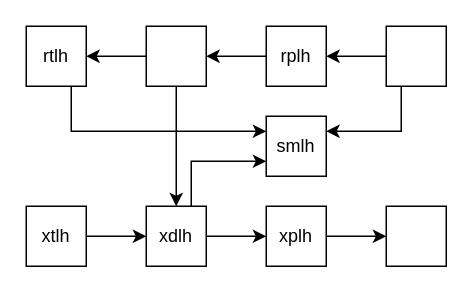
Image size: 473x293. Some labels were removed from this diagram. The centre of each missing label's shape, as x and y in pixels:
rdlh: the point at 175,55
rmlh: the point at 415,55
xmlh: the point at 415,235
